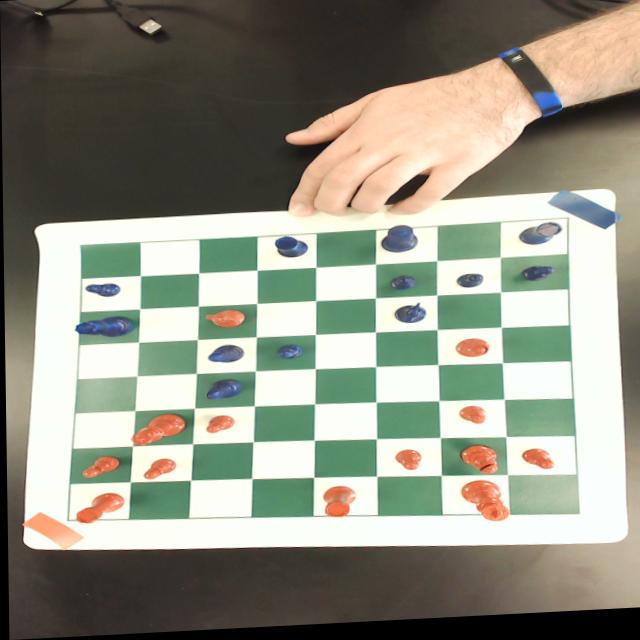B: (204, 380, 243, 401), (206, 345, 243, 365)
K: (378, 228, 418, 257)
N: (389, 306, 428, 329)
P: (82, 282, 121, 298), (520, 270, 555, 287), (388, 278, 418, 295), (454, 276, 483, 293), (275, 346, 303, 362)
Q: (74, 316, 132, 339)
R: (516, 227, 563, 251), (272, 237, 307, 260)
b: (458, 448, 497, 480), (454, 342, 488, 362)
k: (459, 484, 509, 527)
n: (203, 310, 247, 331)
p: (79, 455, 120, 479), (140, 459, 176, 480), (519, 453, 553, 475), (392, 452, 420, 475), (456, 409, 486, 429), (203, 416, 234, 435)
q: (130, 414, 185, 448)
r: (73, 492, 124, 524), (321, 488, 355, 521)
